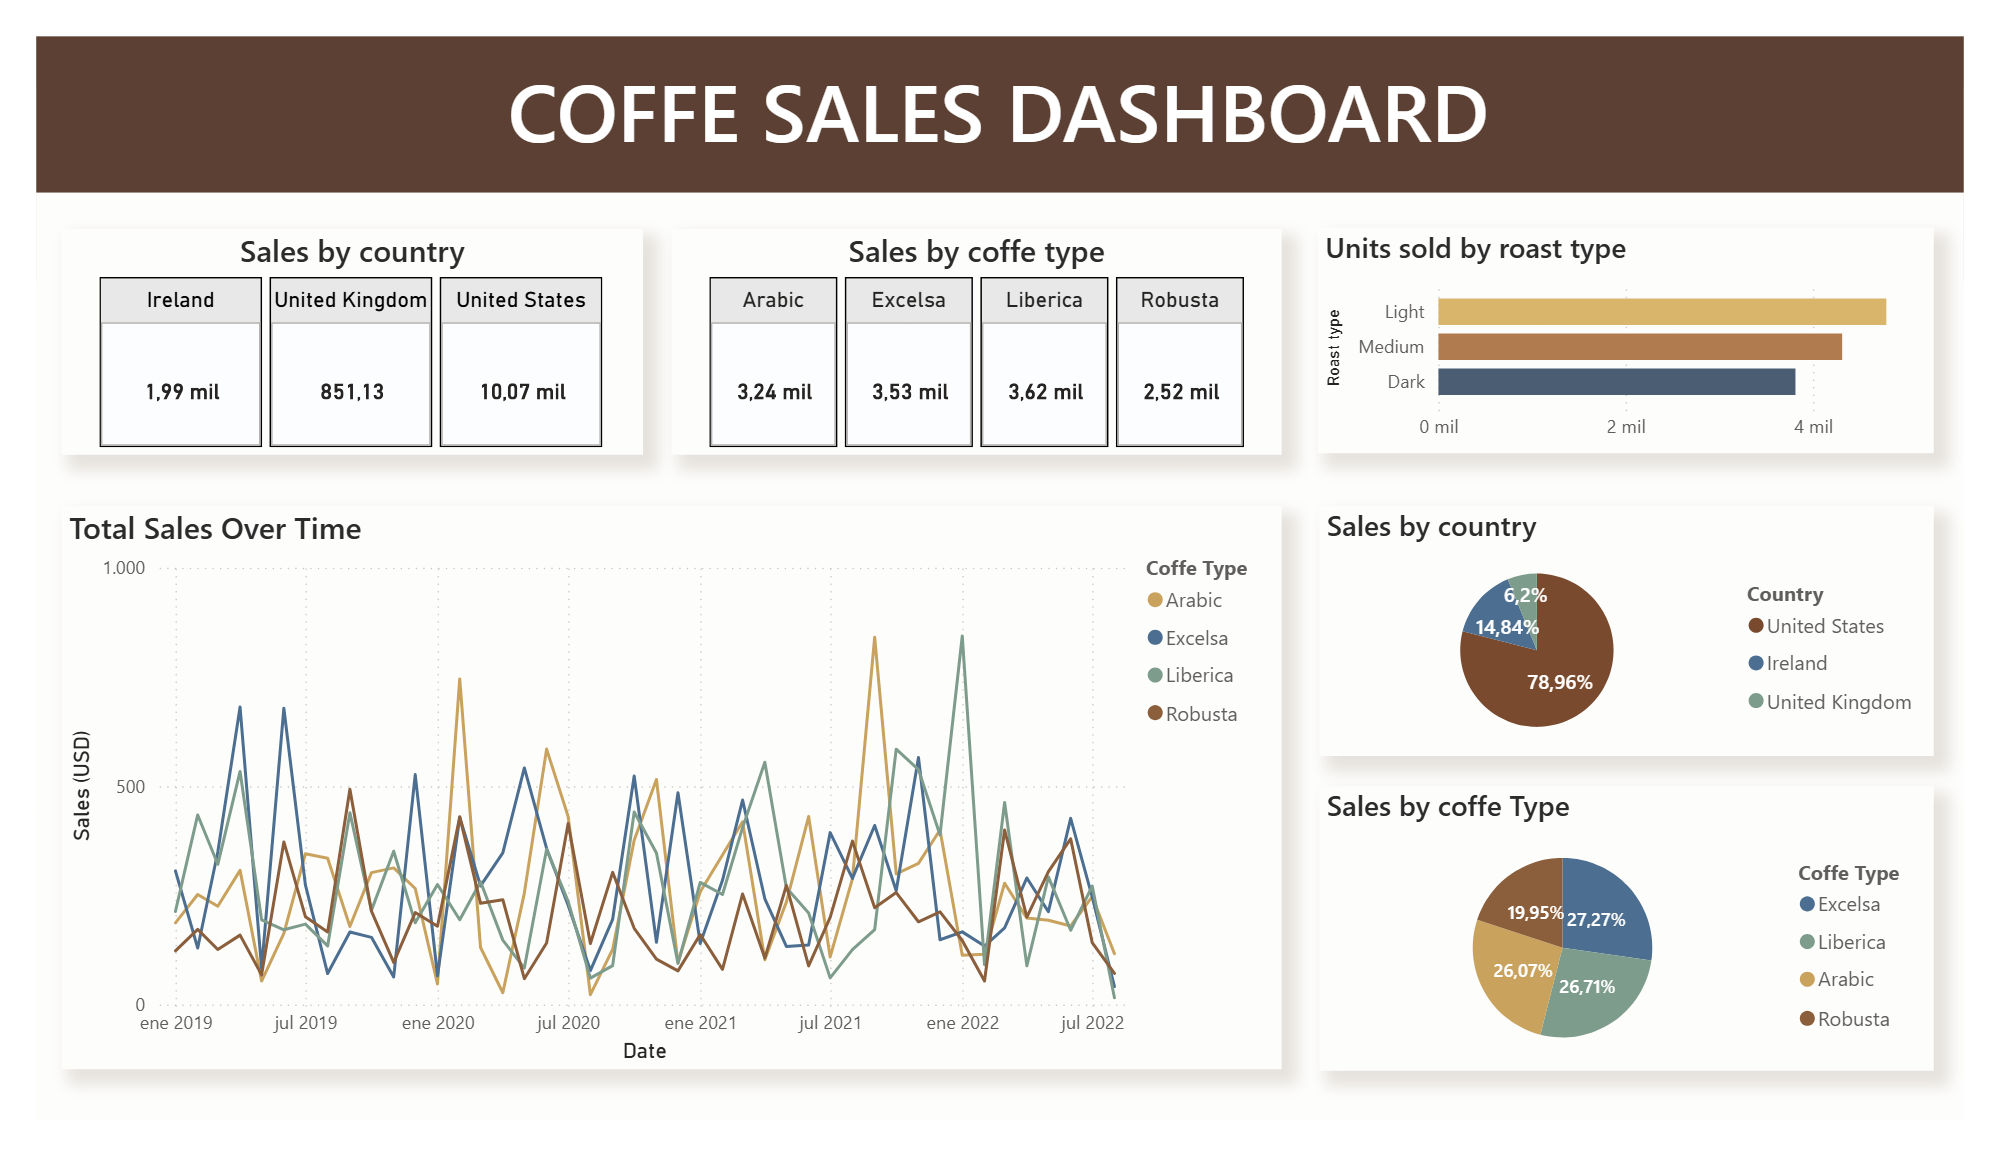

The dashboard page shown, as its layout file describes it:
{"tool":"powerbi","page":{"name":"Dashboard","canvas":[1280,720],"ordinal":0},"visuals":[{"type":"lineChart","title":"Total Sales Over Time","fields":{"Category":["Orders_Table.Order Date.Variación.Jerarquía de fechas.Año","Orders_Table.Order Date.Variación.Jerarquía de fechas.Trimestre","Orders_Table.Order Date.Variación.Jerarquía de fechas.Mes"],"Y":["Sum(Orders_Table.Sales)"],"Series":["Orders_Table.Coffe Type Name"]},"box":[17,312.4,809.6,373.5],"z":0},{"type":"cardVisual","title":"Sales by country","fields":{"Data":["Sum(Orders_Table.Unit Price)"],"Rows":["Orders_Table.Country"]},"box":[16.7,128.3,386.7,150],"z":1000},{"type":"pieChart","title":"Sales by country","fields":{"Category":["Orders_Table.Country"],"Y":["Sum(Orders_Table.Sales)"]},"box":[851.7,311.7,408.3,166.7],"z":2000},{"type":"cardVisual","title":"Sales by coffe type","fields":{"Data":["Sum(Orders_Table.Unit Price)"],"Rows":["Orders_Table.Coffe Type Name"]},"box":[421.7,128.3,405,150],"z":3000},{"type":"pieChart","title":"Sales by coffe Type","fields":{"Category":["Orders_Table.Coffe Type Name"],"Y":["Sum(Orders_Table.Sales)"]},"box":[851.7,498.3,408.3,188.3],"z":4000},{"type":"barChart","title":"Units sold by roast type","fields":{"Category":["Orders_Table.Roast Type Name"],"Y":["Sum(Orders_Table.Unit Price)"]},"box":[851.4,127.1,408.6,150],"z":5000},{"type":"shape","box":[0,0,1280,104],"z":6000},{"type":"textbox","title":"COFFE SALES DASHBOARD","box":[262,12,754,80],"z":7000}]}

Visuals, with their boxes in screenshot pixels (x1, y1, x2, y2), scaled from the page's 1280x720 canvas onto the 2000x1156 screenshot:
"Total Sales Over Time" lineChart: left=27, top=502, right=1292, bottom=1101
"Sales by country" cardVisual: left=26, top=206, right=630, bottom=447
"Sales by country" pieChart: left=1331, top=500, right=1969, bottom=768
"Sales by coffe type" cardVisual: left=659, top=206, right=1292, bottom=447
"Sales by coffe Type" pieChart: left=1331, top=800, right=1969, bottom=1102
"Units sold by roast type" barChart: left=1330, top=204, right=1969, bottom=445
shape: left=0, top=0, right=1999, bottom=167
"COFFE SALES DASHBOARD" textbox: left=409, top=19, right=1588, bottom=148
